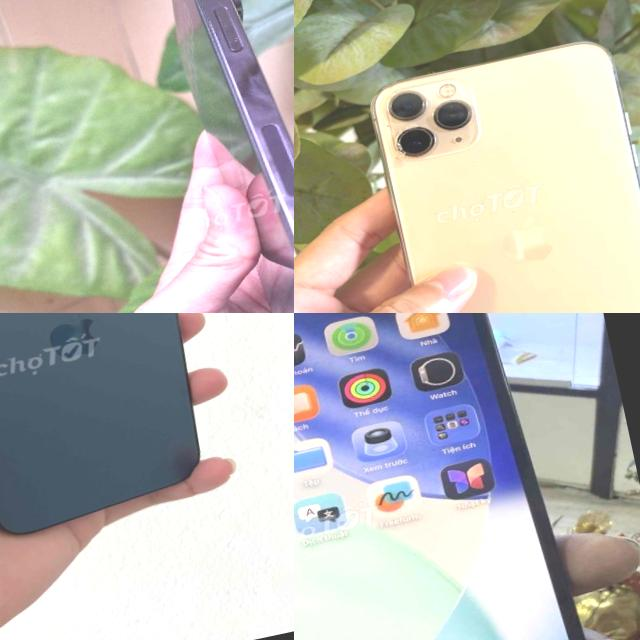gen_11: (354, 25, 640, 313)
gen_12_13: (294, 313, 632, 640), (0, 313, 219, 548)
gen_14: (132, 0, 294, 313)
